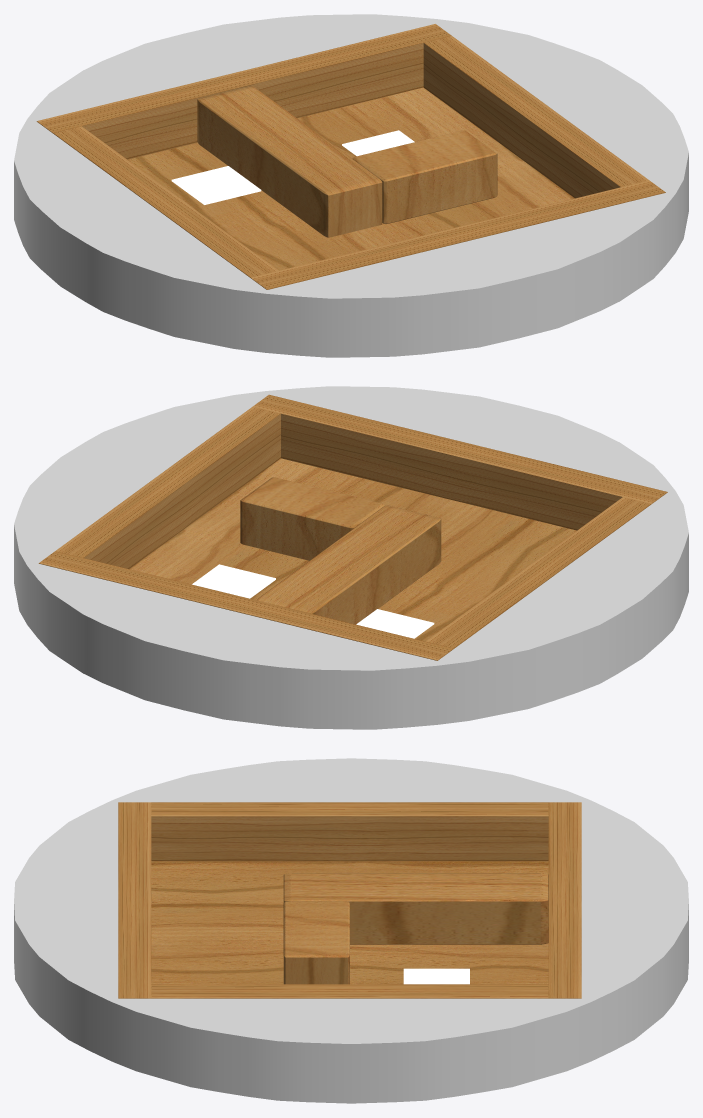
3 renders of one model, top to bottom at view 1: azimuth 30°, elevation 25°; view 2: azimuth 150°, elevation 25°; view 3: azimuth 270°, elevation 25°, orthographic.
Visible parts, largest first — view 1: Wall_Out_line_cylinder, Floor_1, Wall_Out_line__4, Wall_In_line__2, Wall_Out_line__5, Wall_In_line__1, Wall_Out_line__3, Wall_Out_line__2, ClearPoint_1, StartPoint_1; view 2: Wall_Out_line_cylinder, Floor_1, Wall_Out_line__3, Wall_Out_line__5, Wall_In_line__2, Wall_In_line__1, Wall_Out_line__4, Wall_Out_line__2, StartPoint_1, ClearPoint_1; view 3: Wall_Out_line_cylinder, Floor_1, Wall_Out_line__2, Wall_In_line__2, Wall_Out_line__3, Wall_Out_line__4, Wall_Out_line__5, Wall_In_line__1, StartPoint_1.
Part boxes in pixels (box(x1,y1,x2,y2)): Wall_Out_line_cylinder: box(14, 14, 688, 357); Floor_1: box(128, 87, 574, 270); Wall_Out_line__4: box(36, 24, 451, 159); Wall_In_line__2: box(197, 86, 382, 237); Wall_Out_line__5: box(423, 36, 648, 198); Wall_In_line__1: box(352, 130, 497, 224); Wall_Out_line__3: box(251, 180, 665, 289); Wall_Out_line__2: box(53, 126, 278, 277); ClearPoint_1: box(171, 166, 261, 204); StartPoint_1: box(342, 130, 414, 156); Wall_Out_line_cylinder: box(14, 386, 688, 729); Floor_1: box(130, 458, 576, 641); Wall_Out_line__3: box(253, 394, 667, 530); Wall_Out_line__5: box(55, 406, 280, 569); Wall_In_line__2: box(257, 505, 441, 624); Wall_In_line__1: box(240, 477, 384, 560); Wall_Out_line__4: box(38, 551, 453, 660); Wall_Out_line__2: box(426, 497, 651, 648); StartPoint_1: box(192, 564, 275, 598); ClearPoint_1: box(356, 609, 434, 638); Wall_Out_line_cylinder: box(14, 758, 688, 1103); Floor_1: box(151, 861, 548, 984); Wall_Out_line__2: box(151, 802, 548, 861); Wall_In_line__2: box(283, 873, 548, 944); Wall_Out_line__3: box(118, 802, 151, 998); Wall_Out_line__4: box(548, 802, 581, 998); Wall_Out_line__5: box(151, 984, 548, 998); Wall_In_line__1: box(283, 901, 349, 984); StartPoint_1: box(403, 968, 469, 984).
Bounding box in the file's own units: 4086 × 400 × 4078.
Materials: 4 (2 with a texture image).
